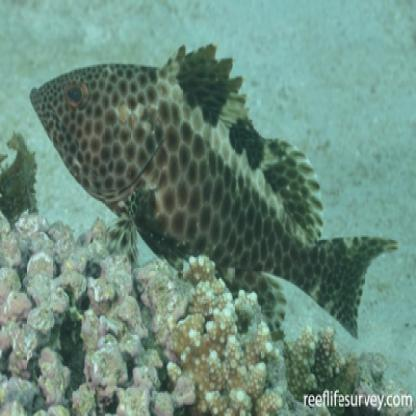Serranidae -Groupers-: (28, 37, 400, 344)
